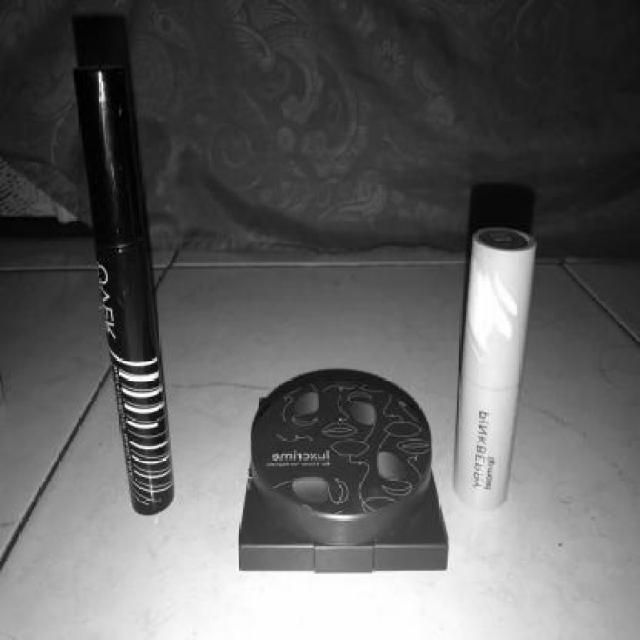lipstick: (444, 215, 576, 513)
